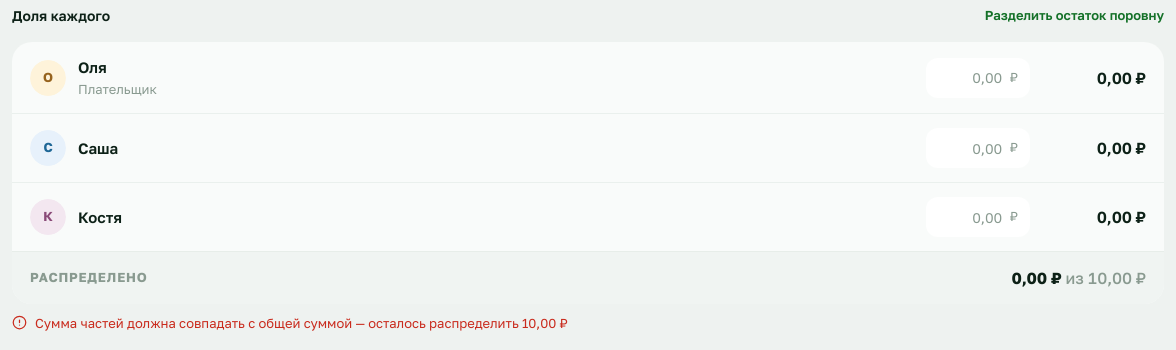
Scenario: SplitEditor — other modes › accepts a comma as the decimal separator in an exact amount
The image size is (1176, 350).
Type "3,34" into the field named "Точная сумма: Оля".
click(978, 78); type("3,34")  # box x1=926 y1=58 x2=1030 y2=98
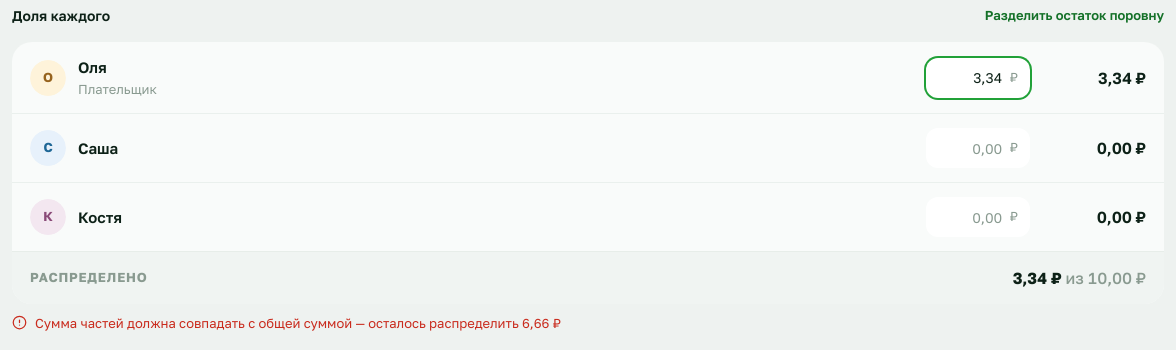
Type "3,33" into the field named "Точная сумма: Саша".
click(978, 148); type("3,33")  # box x1=926 y1=128 x2=1030 y2=168
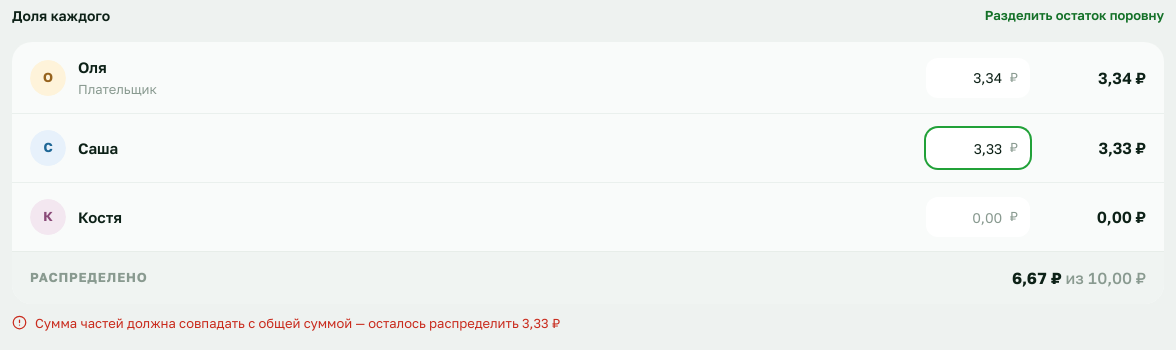
Type "3,33" into the field named "Точная сумма: Костя".
click(978, 217); type("3,33")  # box x1=926 y1=197 x2=1030 y2=237
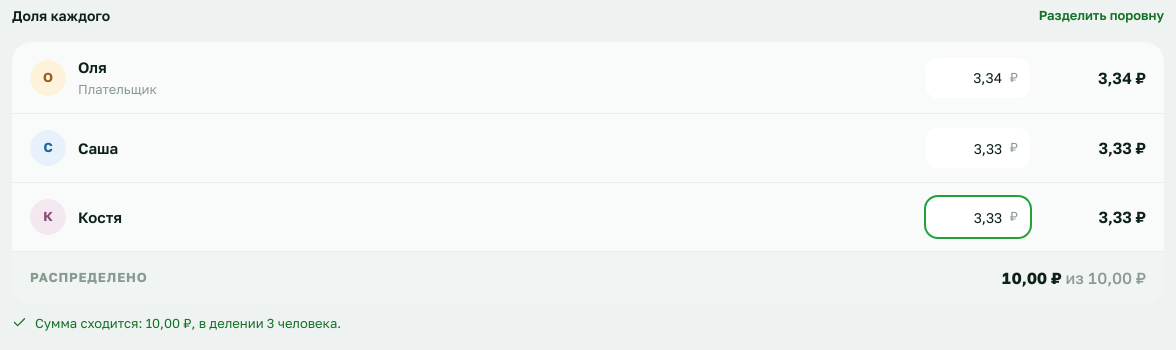
expect the text "Сумма сходится: 10,00 ₽, в делении 3 человека." is shown: met, box x1=35 y1=314 x2=341 y2=334
